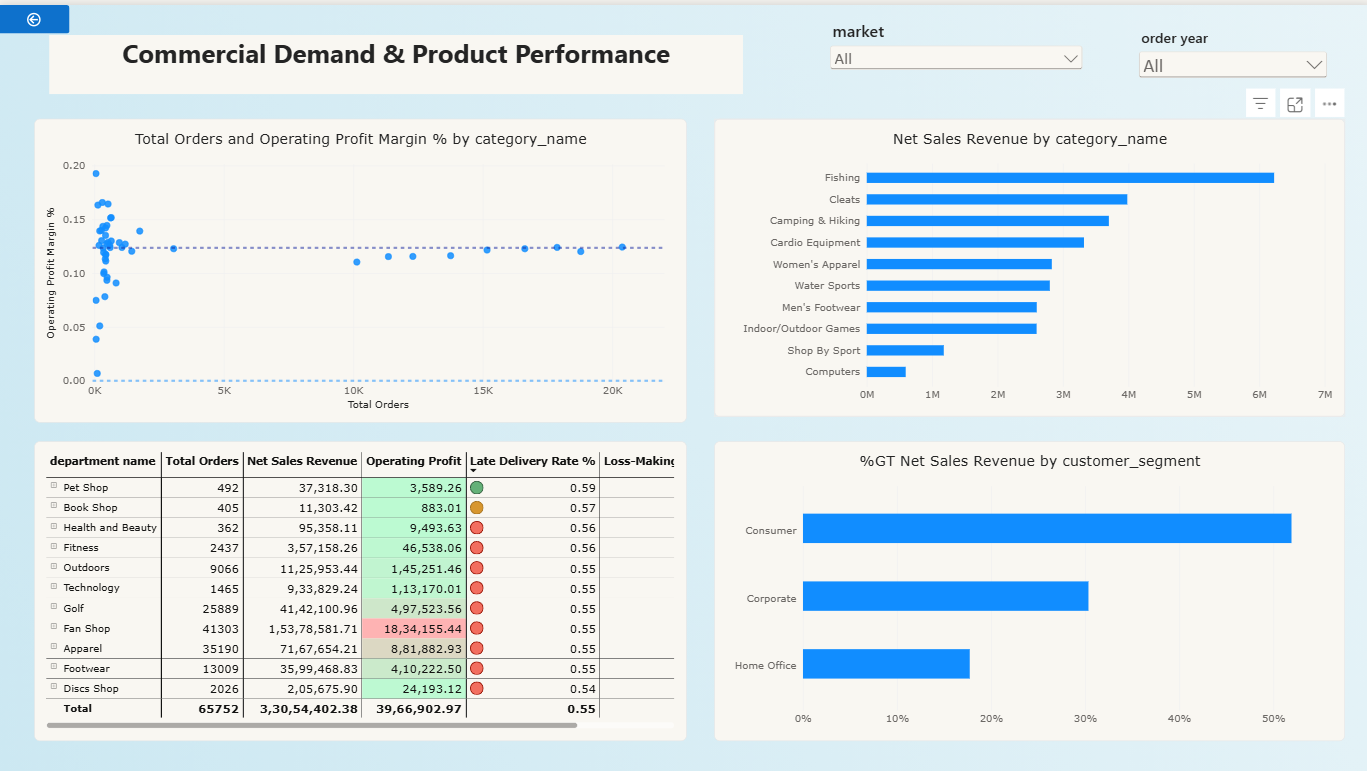

The page's visual inventory and layout, read from the dashboard file:
{"tool":"powerbi","page":{"name":"Page 3","canvas":[1920,1080],"ordinal":2},"visuals":[{"type":"scatterChart","fields":{"Category":["fact_order_items.category_name"],"X":["_measure.Total Orders"],"Y":["_measure.Operating Profit Margin %"]},"box":[50,158,910,424],"z":0},{"type":"clusteredBarChart","fields":{"Category":["fact_order_items.category_name"],"Y":["_measure.Net Sales Revenue"]},"box":[1000,158,880,416],"z":1000},{"type":"pivotTable","fields":{"Rows":["fact_order_items.department_name","fact_order_items.category_name"],"Values":["_measure.Total Orders","_measure.Net Sales Revenue","_measure.Operating Profit","_measure.Late Delivery Rate %","_measure.Loss-Making Order Rate %"]},"box":[50,608,910,418],"z":2000},{"type":"actionButton","box":[0,0,100,40],"z":3000},{"type":"clusteredBarChart","fields":{"Category":["fact_order_items.customer_segment"],"Y":["_measure.Net Sales Revenue"]},"box":[1000,608,880,418],"z":4000},{"type":"slicer","fields":{"Values":["fact_order_items.order_year"]},"box":[1588,32,272,100],"z":5000},{"type":"slicer","fields":{"Values":["fact_order_items.market"]},"box":[1156,20,362,138],"z":6000},{"type":"textbox","title":"Commercial Demand & Product Performance","box":[72,42,968,82],"z":7000}]}

Visuals, with their boxes on the page's 1920x1080 design canvas (x1, y1, x2, y2). These are canvas units, not pixel positions in the 1367x771 screenshot, which may show the page scaled, cropped or inside an application window:
scatterChart - fact_order_items.category_name x _measure.Total Orders: region(50, 158, 960, 582)
clusteredBarChart - fact_order_items.category_name x _measure.Net Sales Revenue: region(1000, 158, 1880, 574)
pivotTable - fact_order_items.department_name x fact_order_items.category_name: region(50, 608, 960, 1026)
actionButton: region(0, 0, 100, 40)
clusteredBarChart - fact_order_items.customer_segment x _measure.Net Sales Revenue: region(1000, 608, 1880, 1026)
slicer - fact_order_items.order_year: region(1588, 32, 1860, 132)
slicer - fact_order_items.market: region(1156, 20, 1518, 158)
"Commercial Demand & Product Performance" textbox: region(72, 42, 1040, 124)
